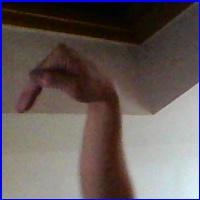del: (11, 35, 102, 128)
